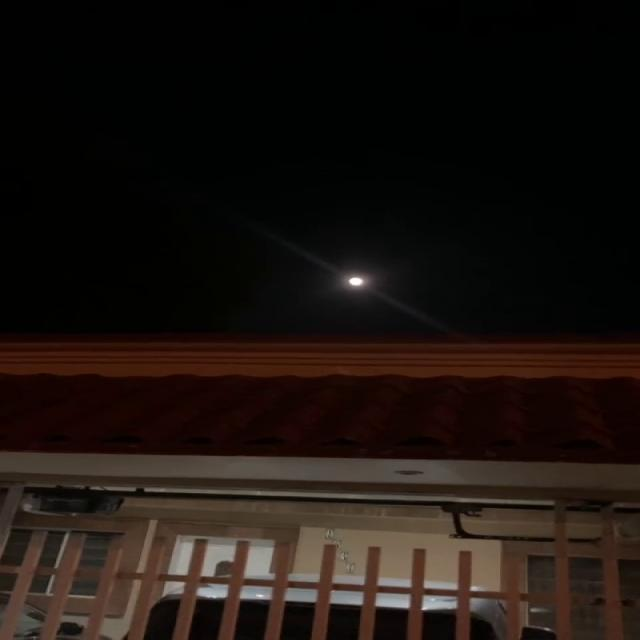moon: (334, 267, 370, 299)
